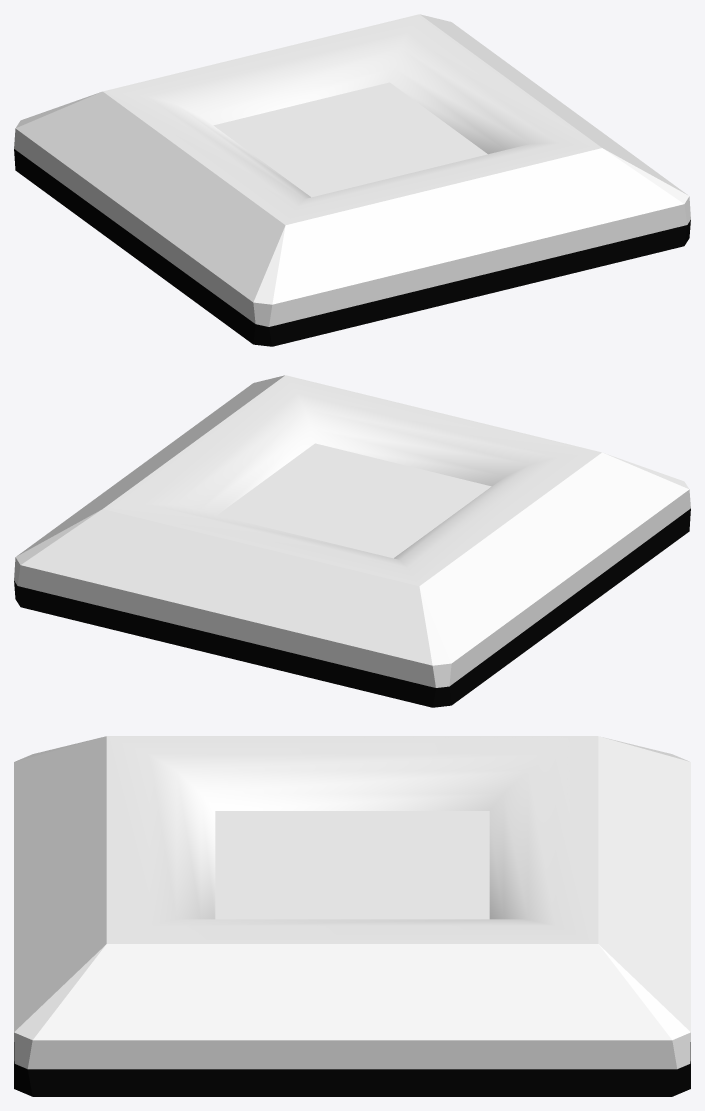
File: Tile_Project.glb
3 renders of one model, top to bottom at view 1: azimuth 30°, elevation 25°; view 2: azimuth 150°, elevation 25°; view 3: azimuth 270°, elevation 25°, orthographic. The views are drawn at different scales.
Parts seen in each view (by area): view 1: Tile_Project; view 2: Tile_Project; view 3: Tile_Project.
Part boxes in pixels (<box>): Tile_Project: <box>14,14,690,346</box>; Tile_Project: <box>14,375,690,707</box>; Tile_Project: <box>14,736,690,1096</box>.
Bounding box in the file's own units: 1 × 0.1902 × 1.
2 materials, 1 textured.
